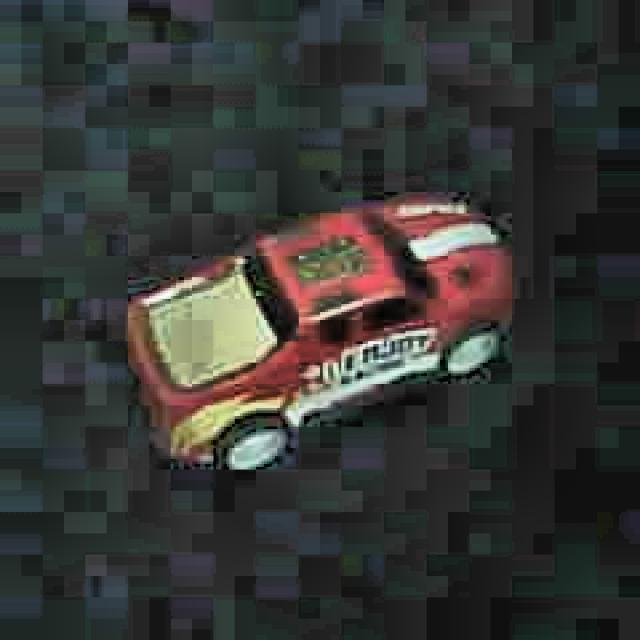car: (115, 188, 520, 486)
